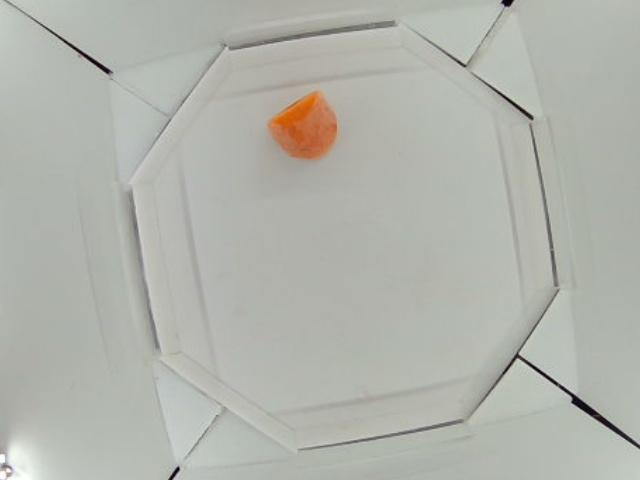Carrot: (271, 90, 339, 158)
